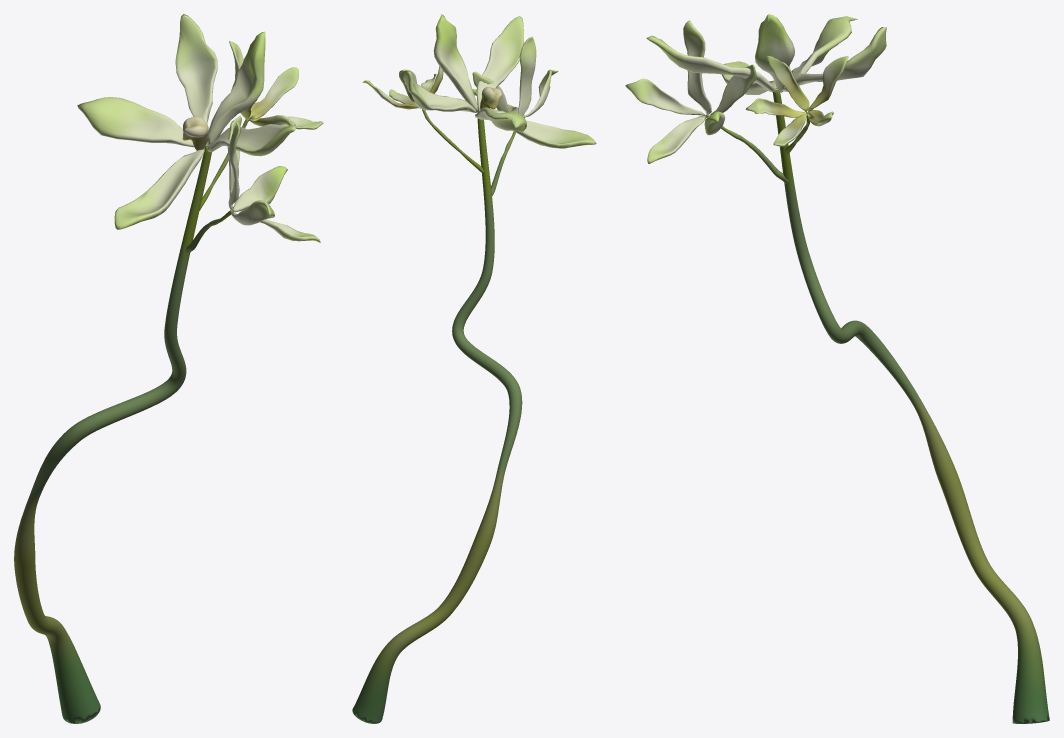
3 renders of one model, left to right at view 1: azimuth 30°, elevation 25°; view 2: azimuth 150°, elevation 25°; view 3: azimuth 270°, elevation 25°, orthographic. The views are drawn at different scales.
Visible parts, largest first — view 1: LOD 1_8817940389063460455_bb9398364d468ec489d5e3c54dd32286; view 2: LOD 1_8817940389063460455_bb9398364d468ec489d5e3c54dd32286; view 3: LOD 1_8817940389063460455_bb9398364d468ec489d5e3c54dd32286.
Boxes of the visible parts, left/top/right/bottom form: LOD 1_8817940389063460455_bb9398364d468ec489d5e3c54dd32286: left=14, top=14, right=323, bottom=723; LOD 1_8817940389063460455_bb9398364d468ec489d5e3c54dd32286: left=352, top=14, right=596, bottom=723; LOD 1_8817940389063460455_bb9398364d468ec489d5e3c54dd32286: left=625, top=14, right=1049, bottom=723.
Bounding box in the file's own units: 4.97 × 15.48 × 8.12.
